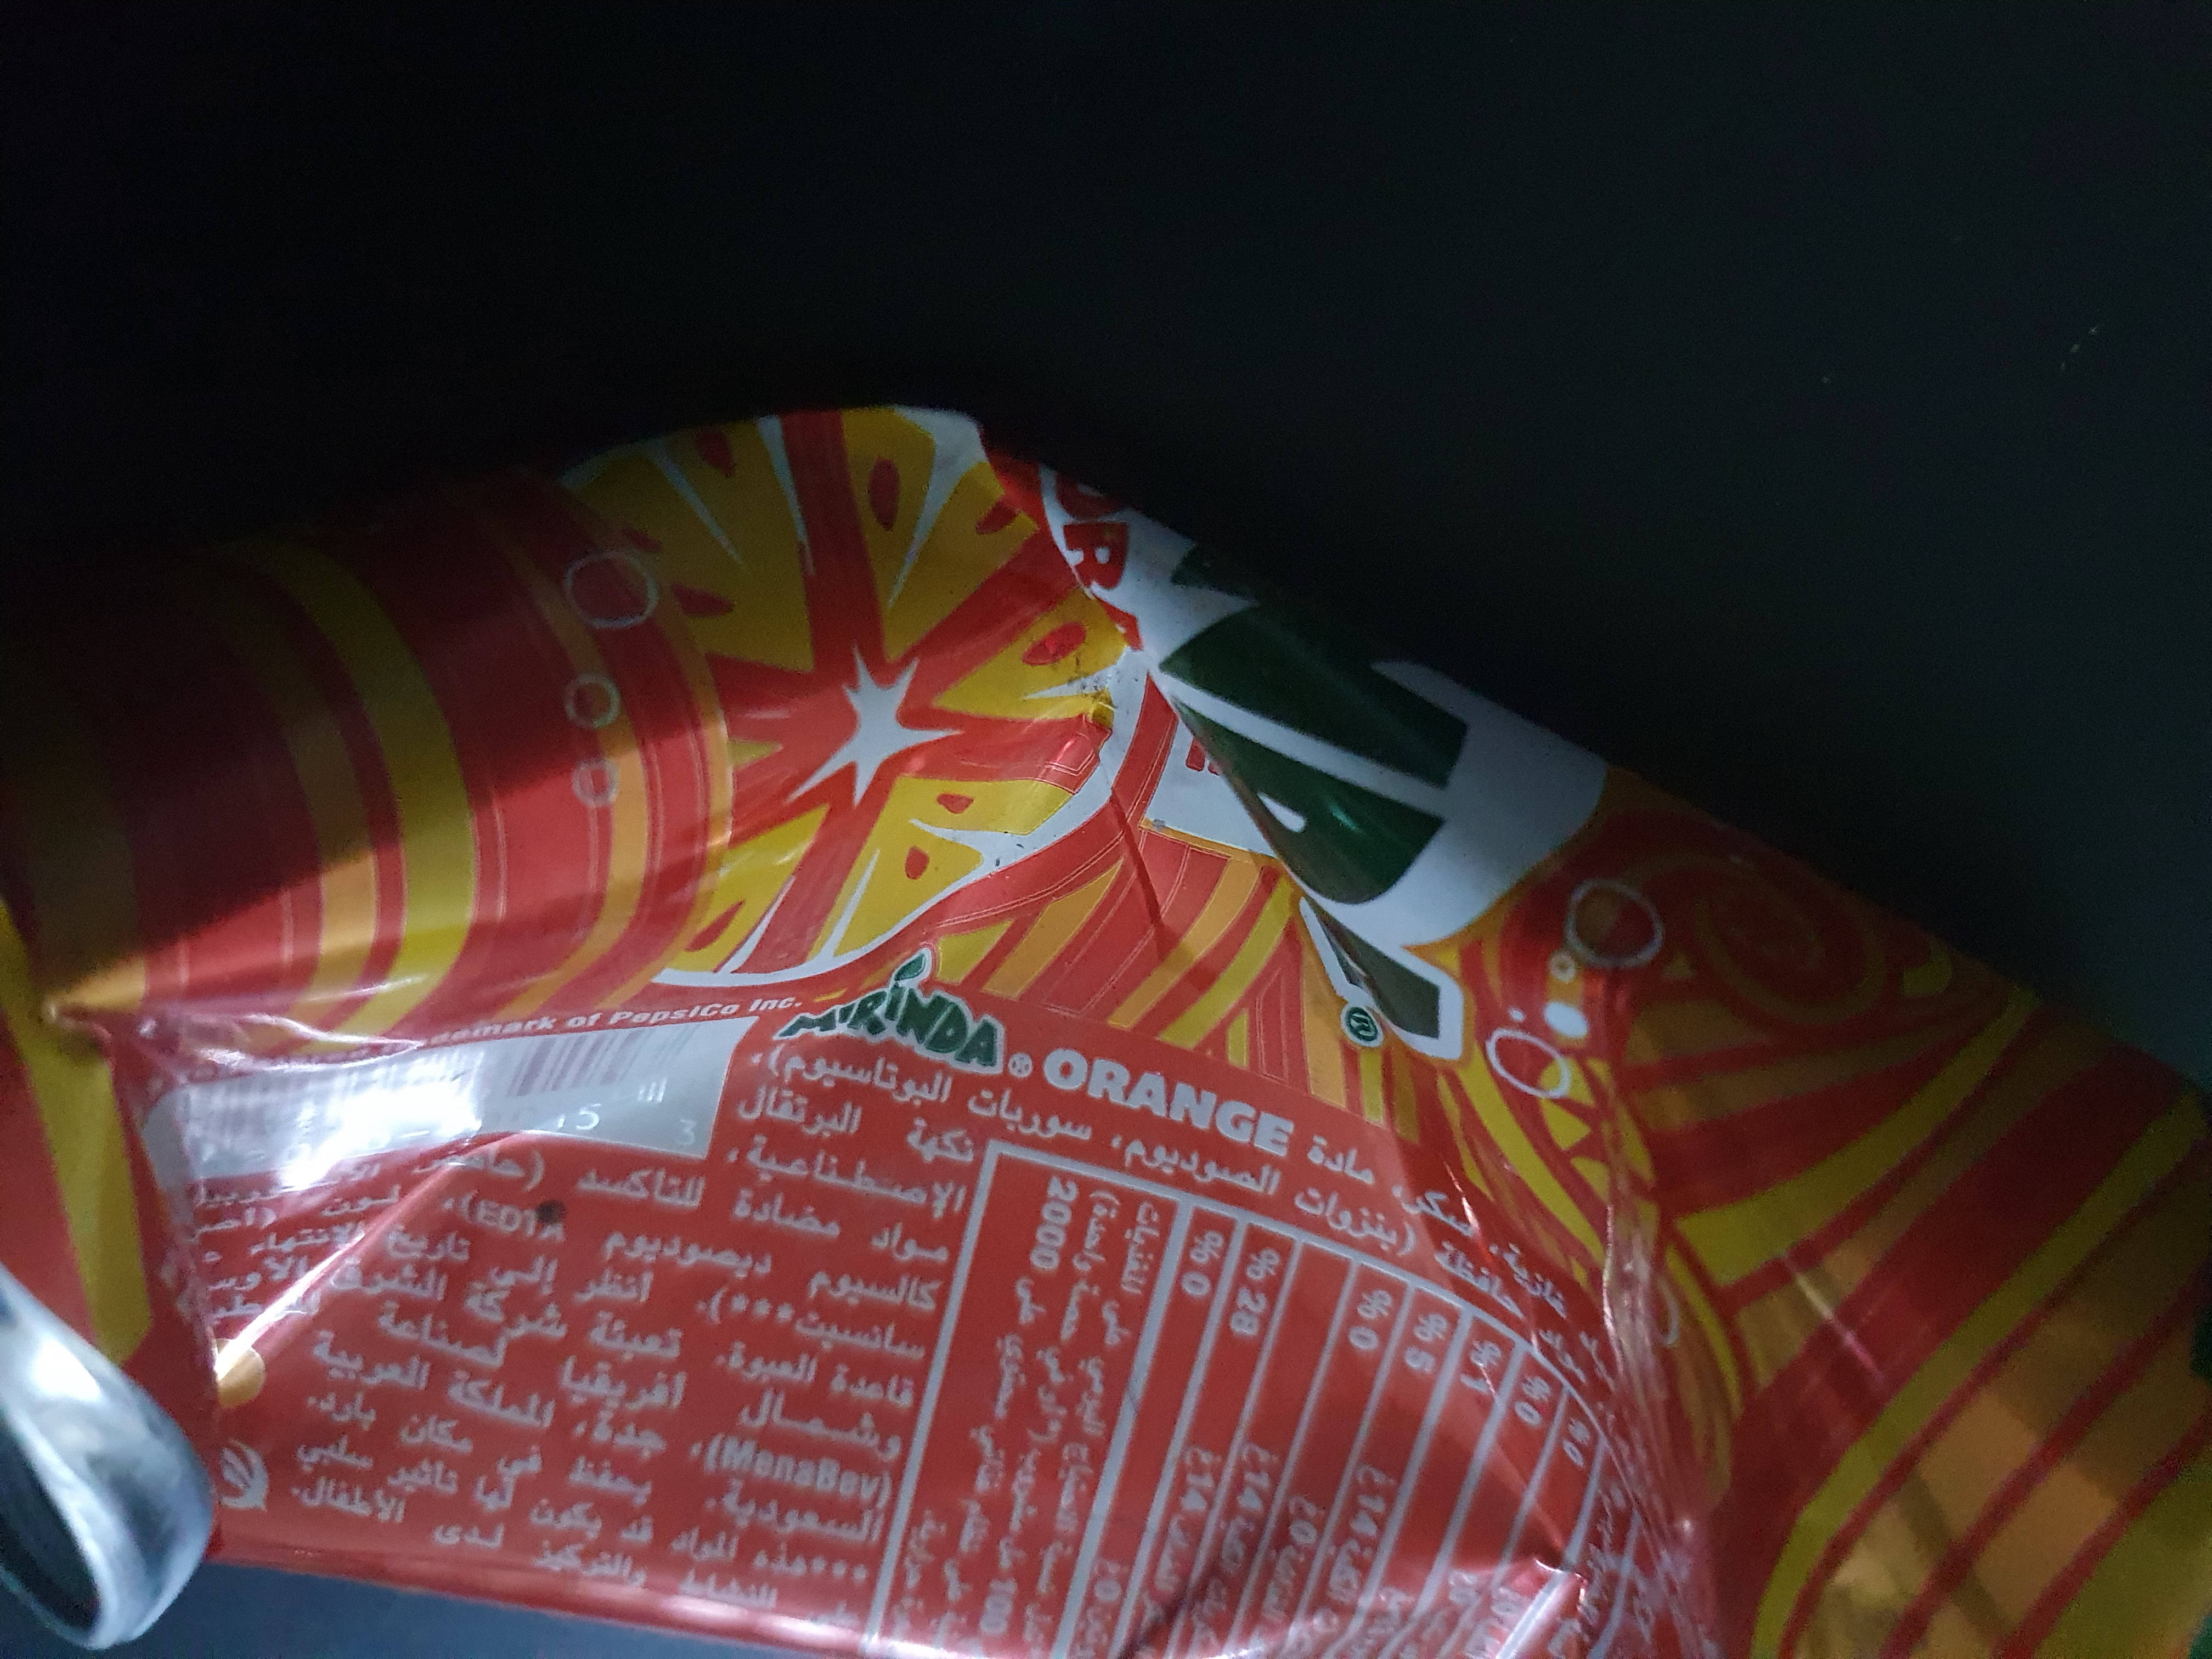metal: (2, 307, 2212, 1659)
